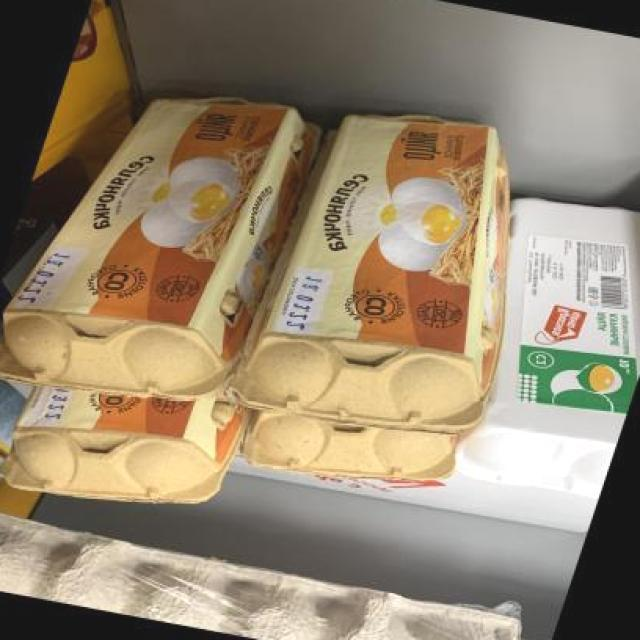Eggs: (222, 97, 562, 450), (0, 68, 334, 420), (426, 188, 640, 506), (0, 378, 235, 519), (252, 406, 459, 500)
